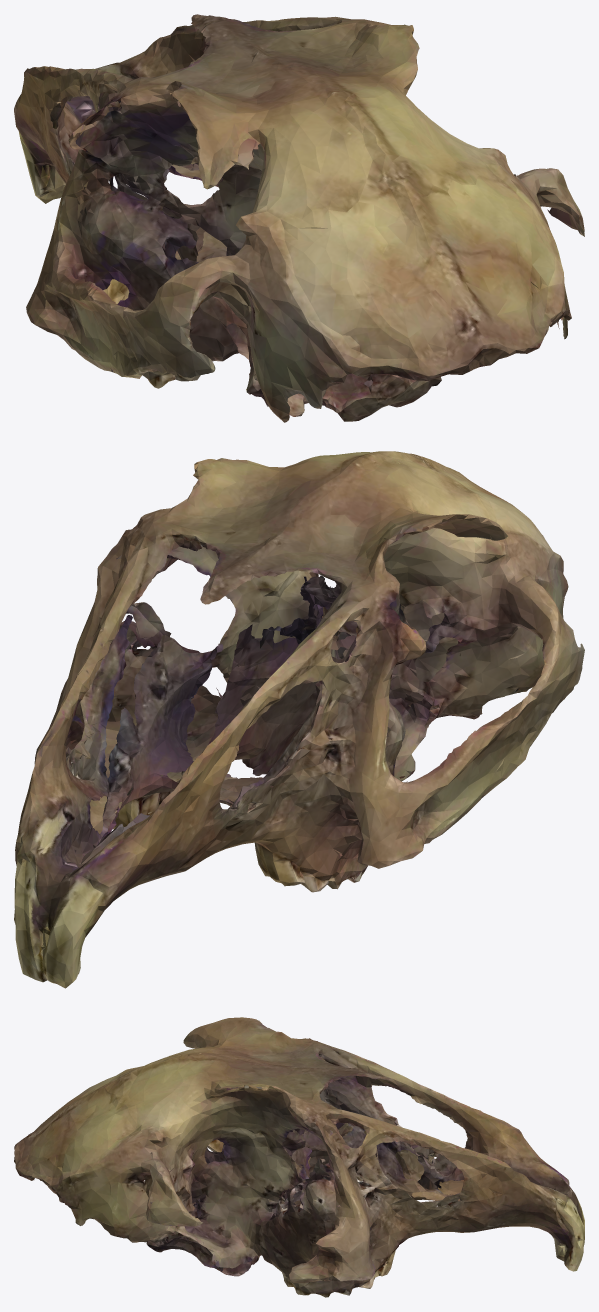
The model's file is skull.glb.
3 renders of one model, top to bottom at view 1: azimuth 30°, elevation 25°; view 2: azimuth 150°, elevation 25°; view 3: azimuth 270°, elevation 25°, orthographic. The views are drawn at different scales.
Parts seen in each view (by area): view 1: skull130524.001; view 2: skull130524.001; view 3: skull130524.001.
Boxes of the visible parts, x1=… form: skull130524.001: x1=14, y1=14, x2=584, y2=422; skull130524.001: x1=14, y1=451, x2=584, y2=988; skull130524.001: x1=14, y1=1017, x2=584, y2=1297.
Bounding box in the file's own units: 47.7 × 36.87 × 89.08.
1 material, 1 textured.
